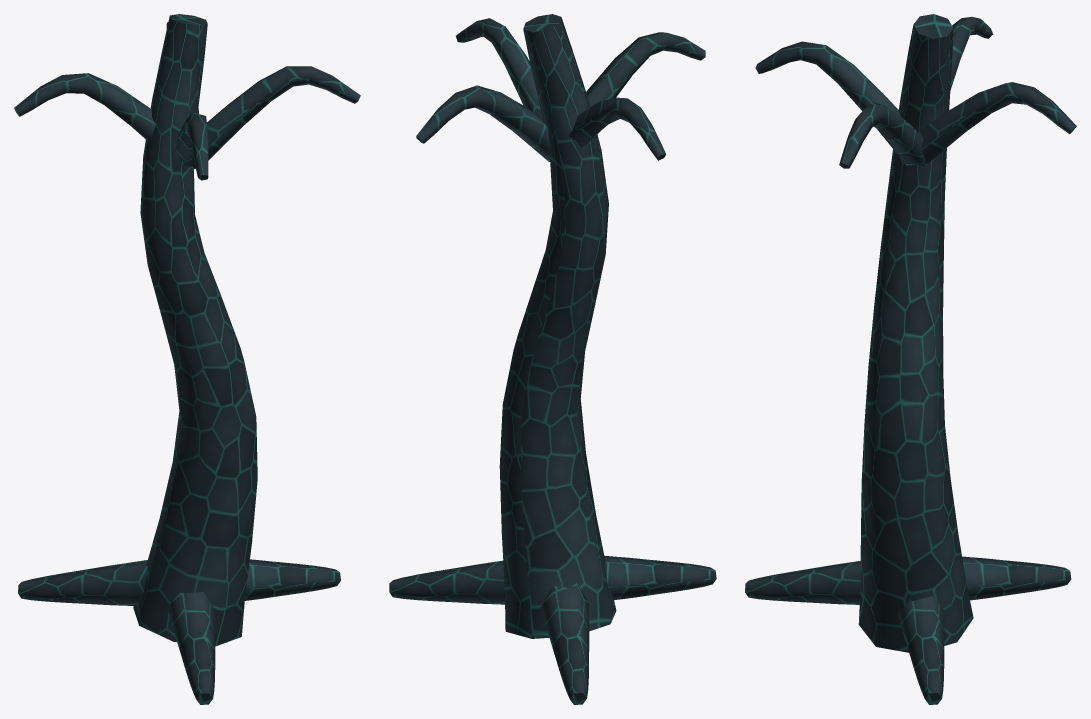
The model's file is sf_tree_dead.glb.
3 views of the same model, side by side, from view 1: azimuth 30°, elevation 25°; view 2: azimuth 150°, elevation 25°; view 3: azimuth 270°, elevation 25° (orthographic).
Parts seen in each view (by area): view 1: Base; view 2: Base; view 3: Base.
Boxes of the visible parts, bbox=[...] form: Base: bbox=[14, 14, 360, 704]; Base: bbox=[389, 14, 716, 704]; Base: bbox=[745, 14, 1076, 704].
Size of the model in its own units: 0.6016 by 1.17 by 0.5764.
1 material, 1 textured.
